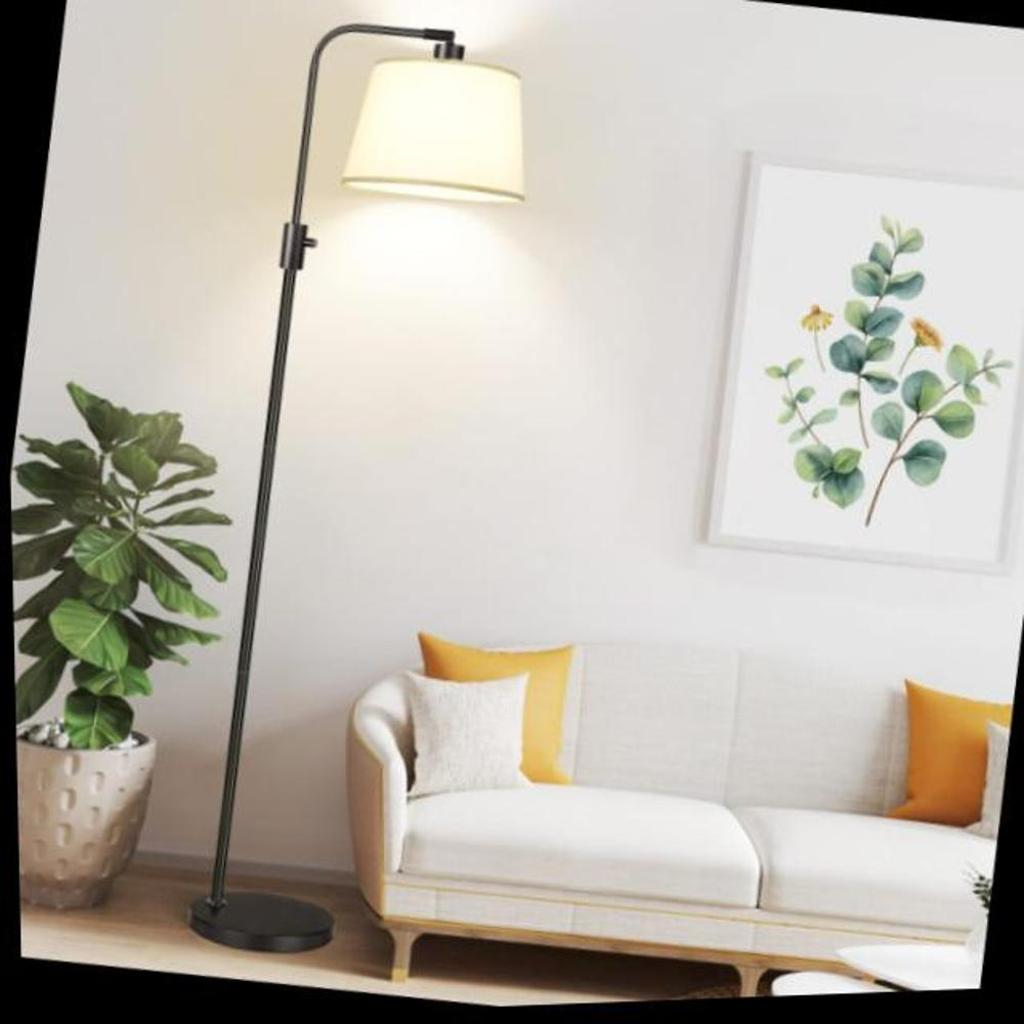shelf: (122, 0, 542, 985)
